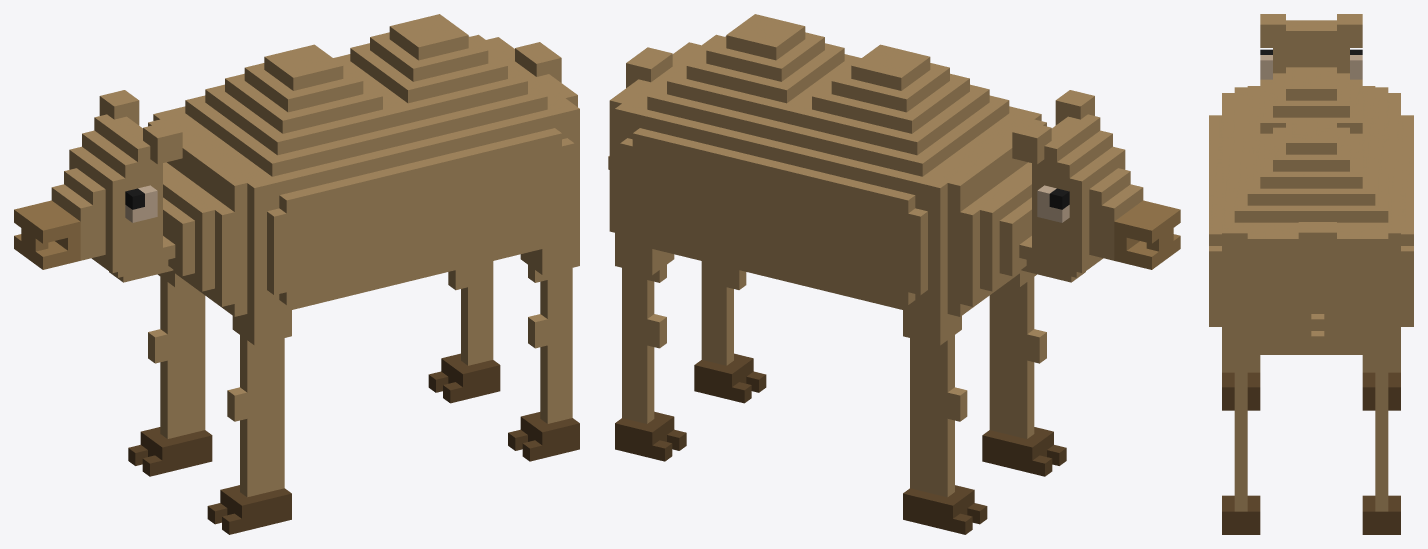
File: Background_B_deco_02.FBX
3 views of the same model, side by side, from view 1: azimuth 30°, elevation 25°; view 2: azimuth 150°, elevation 25°; view 3: azimuth 270°, elevation 25° (orthographic). The views are drawn at different scales.
Visible parts, largest first — view 1: untitled-1; view 2: untitled-1; view 3: untitled-1.
Part boxes in pixels (x1=…): untitled-1: x1=14, y1=14, x2=579, y2=534; untitled-1: x1=608, y1=14, x2=1180, y2=534; untitled-1: x1=1209, y1=14, x2=1413, y2=534.
Size of the model in its own units: 4.4 by 3.1 by 1.6.
1 material, 1 textured.
